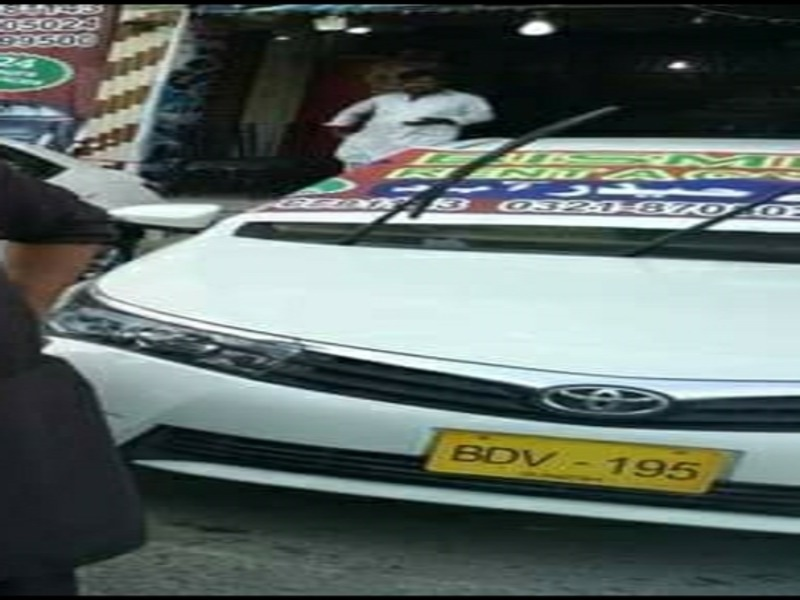License Plate: (433, 428, 721, 500)
